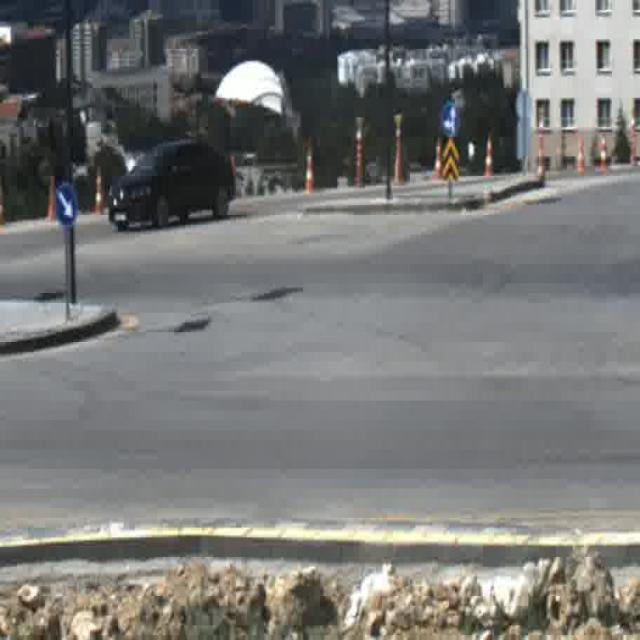Car: (107, 138, 235, 232)
